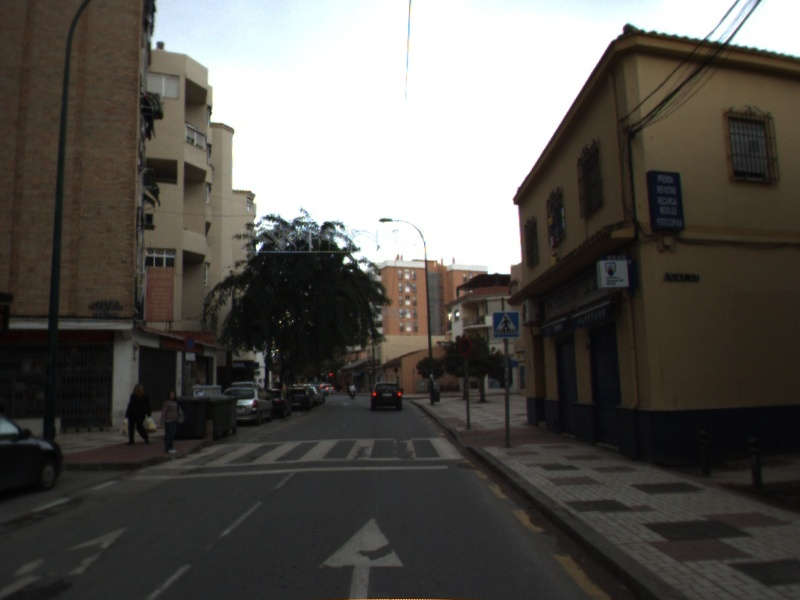STRAIGHT: (1, 524, 133, 600), (314, 515, 408, 600)
